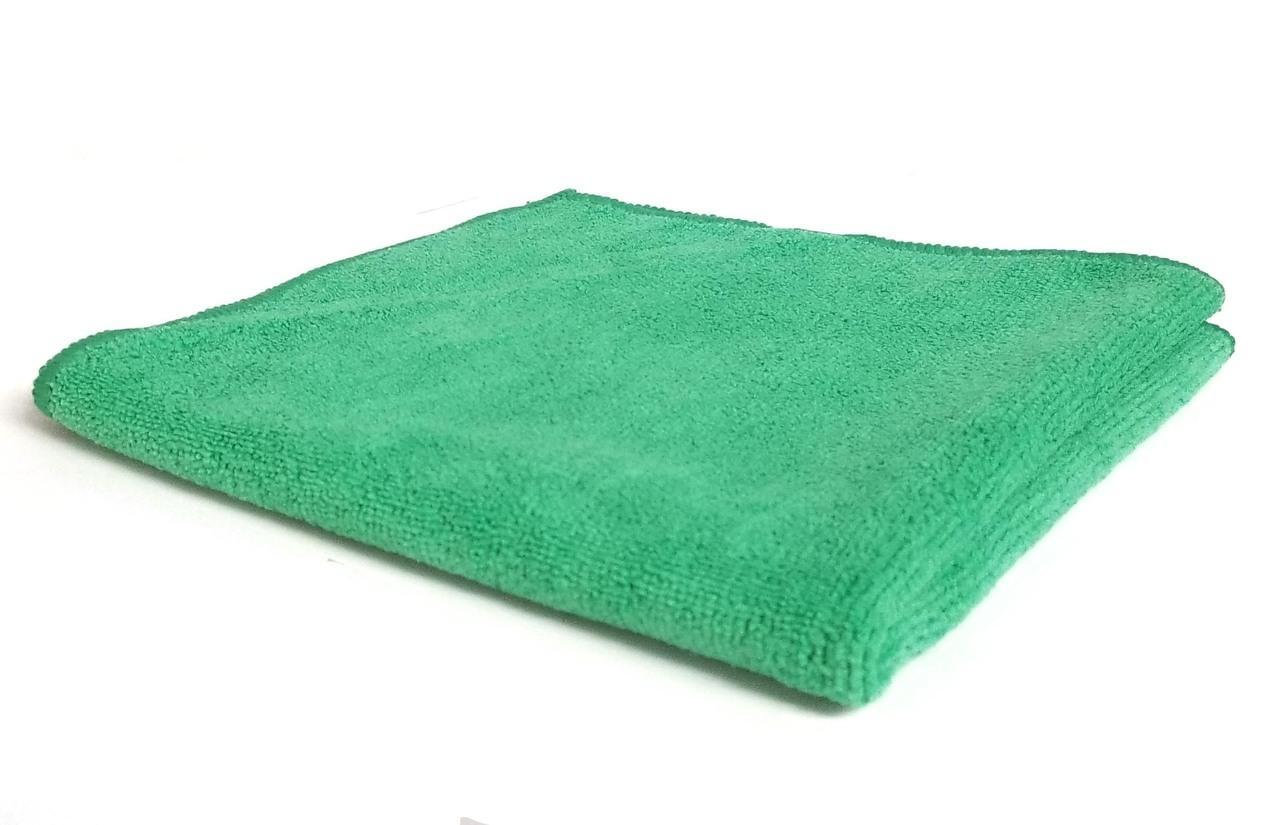towel: (0, 184, 1280, 730)
